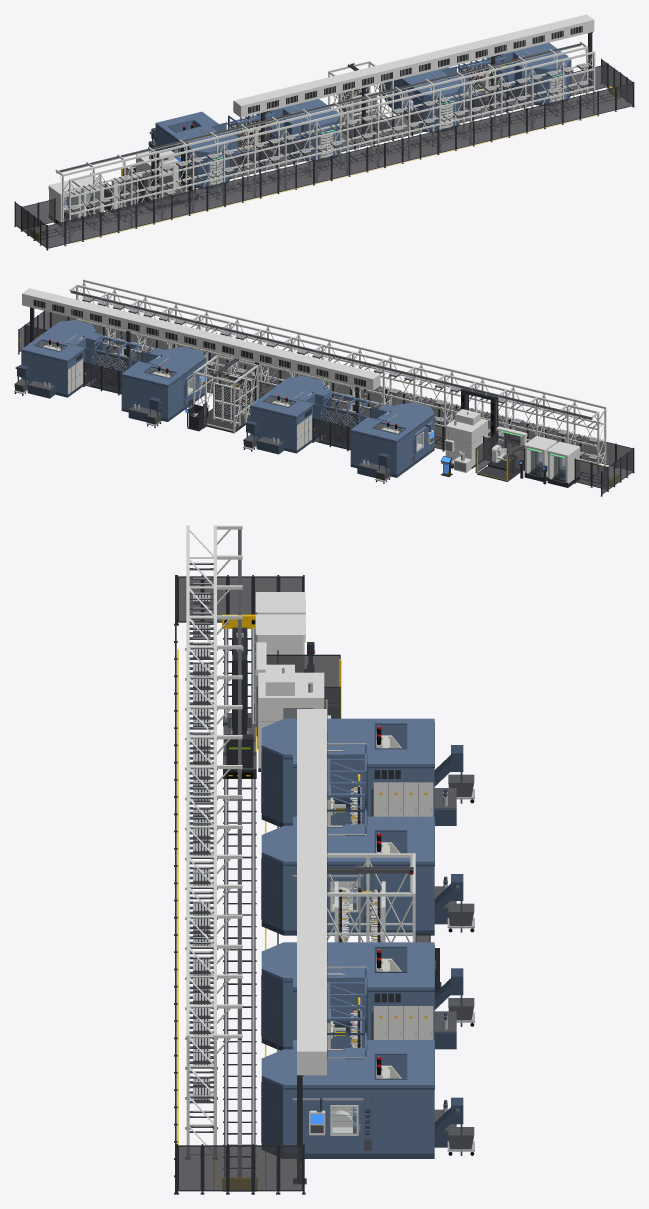
Rendered from mcm_fms_lp90_line_blue.glb.
The picture shows the model from 3 angles, top to bottom: view 1: azimuth 30°, elevation 25°; view 2: azimuth 150°, elevation 25°; view 3: azimuth 270°, elevation 25°; orthographic projection. The views are drawn at different scales.
Parts seen in each view (by area): view 1: RACK_rack_frame__truss_white, FB_fence__mesh, ST_st_beam__evo_white, FB_fence__anthracite, RACK_rack_frame__steel_dark, ST_st_beam__anthracite, MT1_enclosure__mcm_blue, MT3_enclosure__mcm_blue, RACK_rack_frame__steel, FG6_fence__mesh, FG5_fence__mesh, FG7_fence__mesh (+19 smaller); view 2: RACK_rack_frame__truss_white, ST_st_beam__evo_white, FB_fence__mesh, MT1_enclosure__mcm_blue, MT3_enclosure__mcm_blue, MT2_enclosure__mcm_blue, MT4_enclosure__mcm_blue, RACK_rack_frame__steel_dark, CTR_ctr_frame__truss_white, ST_st_beam__anthracite, WASH_wash_cabinet__evo_white, RACK_rack_frame__steel (+35 smaller); view 3: MT4_enclosure__mcm_blue, RACK_rack_frame__truss_white, ST_st_beam__evo_white, MT2_enclosure__mcm_blue, RACK_rack_frame__steel_dark, MT1_enclosure__mcm_blue, MT3_enclosure__mcm_blue, FE47_fence__mesh, trk_track__steel_dark, WASH_wash_cabinet__evo_white, MT2_apc_housing__mcm_blue, MT1_apc_housing__mcm_blue (+28 smaller).
Boxes of the visible parts, x1,y1,x2,y2 form: RACK_rack_frame__truss_white: (55,41,595,241); FB_fence__mesh: (48,83,632,247); ST_st_beam__evo_white: (233,14,594,117); FB_fence__anthracite: (47,82,634,250); RACK_rack_frame__steel_dark: (56,43,589,227); ST_st_beam__anthracite: (248,26,592,165); MT1_enclosure__mcm_blue: (155,111,237,174); MT3_enclosure__mcm_blue: (385,67,467,125); RACK_rack_frame__steel: (56,45,587,218); FG6_fence__mesh: (341,109,427,151); FG5_fence__mesh: (229,138,307,178); FG7_fence__mesh: (459,82,537,122); RACK_rack_frame__truss_white: (69,279,606,473); ST_st_beam__evo_white: (22,288,380,390); FB_fence__mesh: (51,312,632,469); MT1_enclosure__mcm_blue: (350,404,432,475); MT3_enclosure__mcm_blue: (121,348,203,419); MT2_enclosure__mcm_blue: (250,379,331,450); MT4_enclosure__mcm_blue: (21,323,102,394); RACK_rack_frame__steel_dark: (70,290,600,461); CTR_ctr_frame__truss_white: (193,355,258,433); ST_st_beam__anthracite: (30,299,365,425); WASH_wash_cabinet__evo_white: (445,409,487,472); RACK_rack_frame__steel: (70,292,596,460); MT4_enclosure__mcm_blue: (293,1040,434,1153); RACK_rack_frame__truss_white: (186,525,242,1157); ST_st_beam__evo_white: (297,709,326,1075); MT2_enclosure__mcm_blue: (293,816,434,930); RACK_rack_frame__steel_dark: (185,529,241,1158); MT1_enclosure__mcm_blue: (293,718,434,825); MT3_enclosure__mcm_blue: (293,942,434,1049); FE47_fence__mesh: (179,1146,276,1190); trk_track__steel_dark: (224,628,255,1176); WASH_wash_cabinet__evo_white: (258,664,330,768); MT2_apc_housing__mcm_blue: (261,825,292,930); MT1_apc_housing__mcm_blue: (261,718,292,823).
Size of the model in its own units: 49.56 by 5.4 by 11.05.
